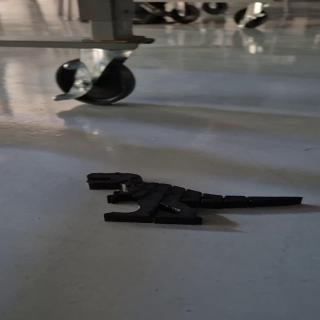dino: (85, 172, 304, 226)
